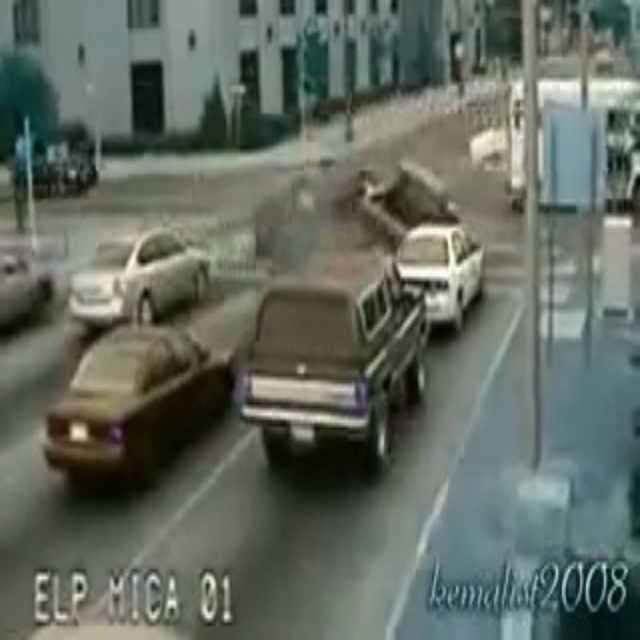acc: (249, 148, 461, 280)
